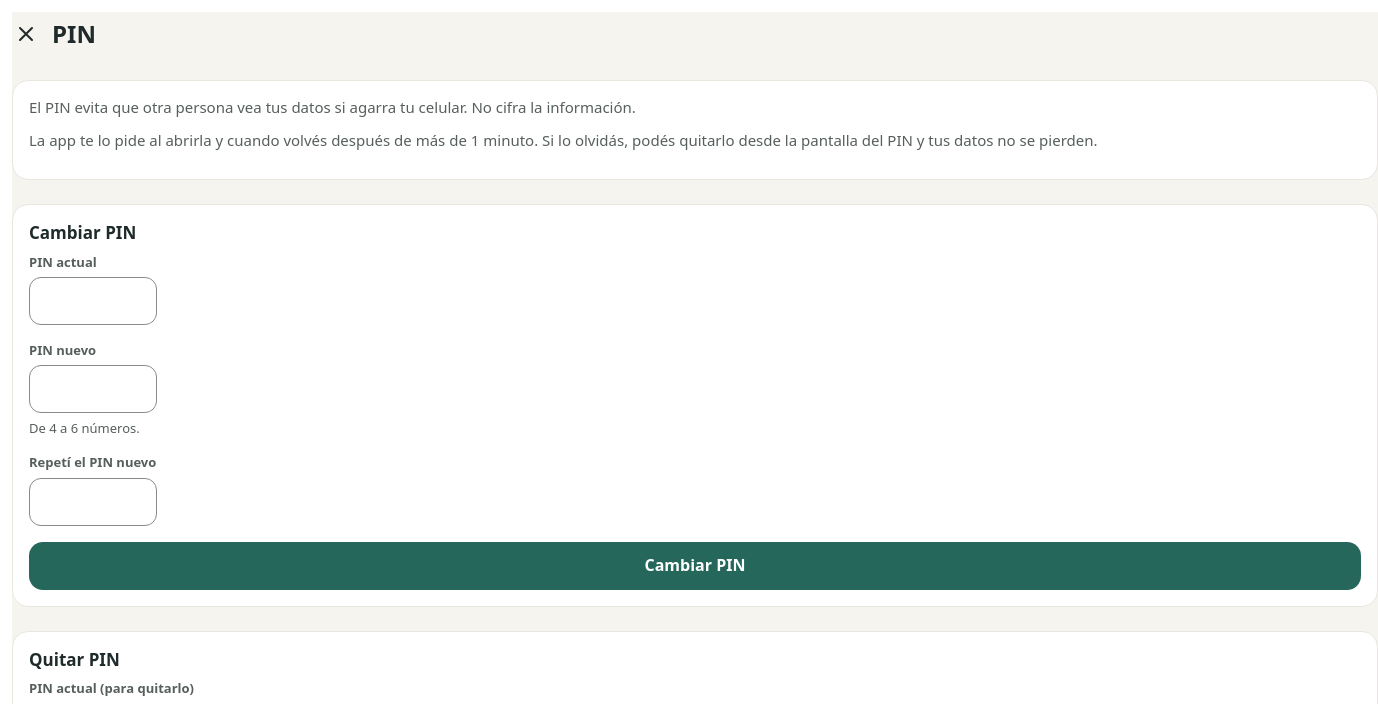
Test: con PIN › el PIN nuevo inválido o que no coincide se explica antes de tocar nada
In the password field labelled "PIN actual": (93, 301) [29,277,157,325], type "1234"
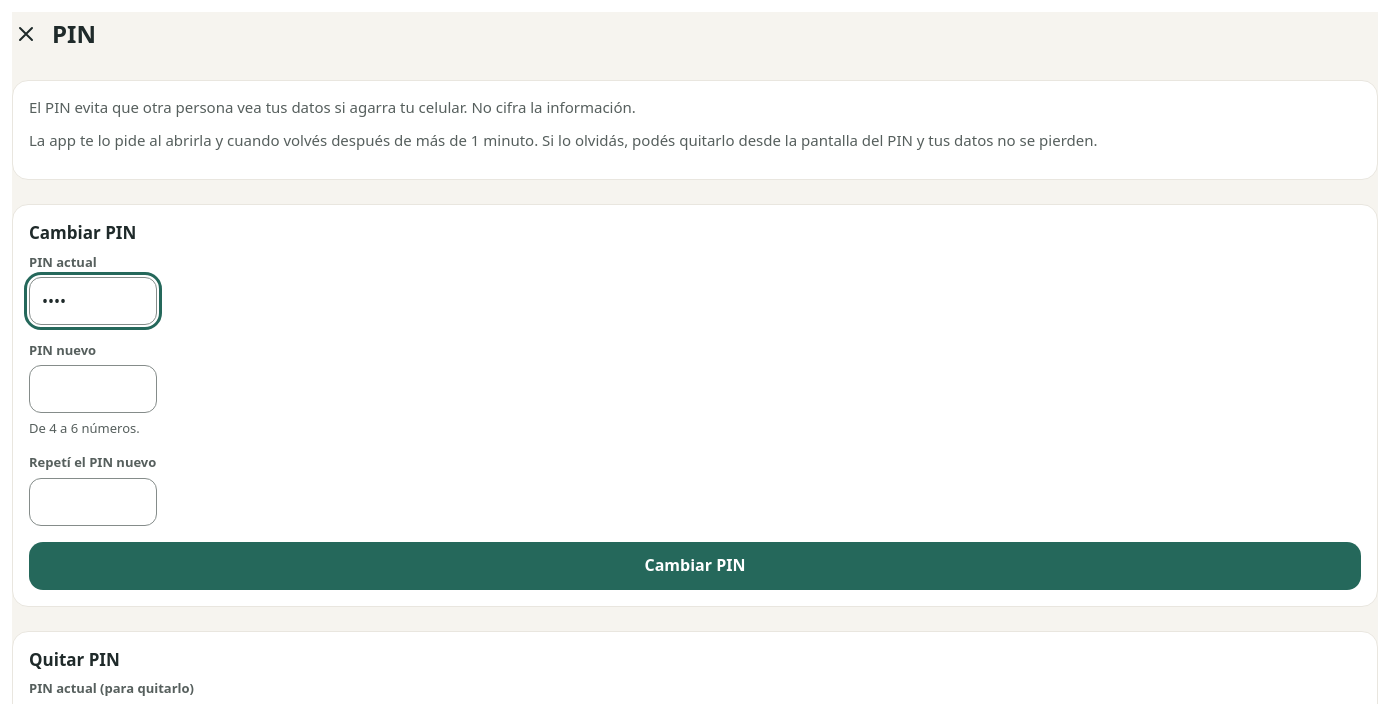
In the password field labelled "PIN nuevo": (93, 389) [29,365,157,413], type "98"
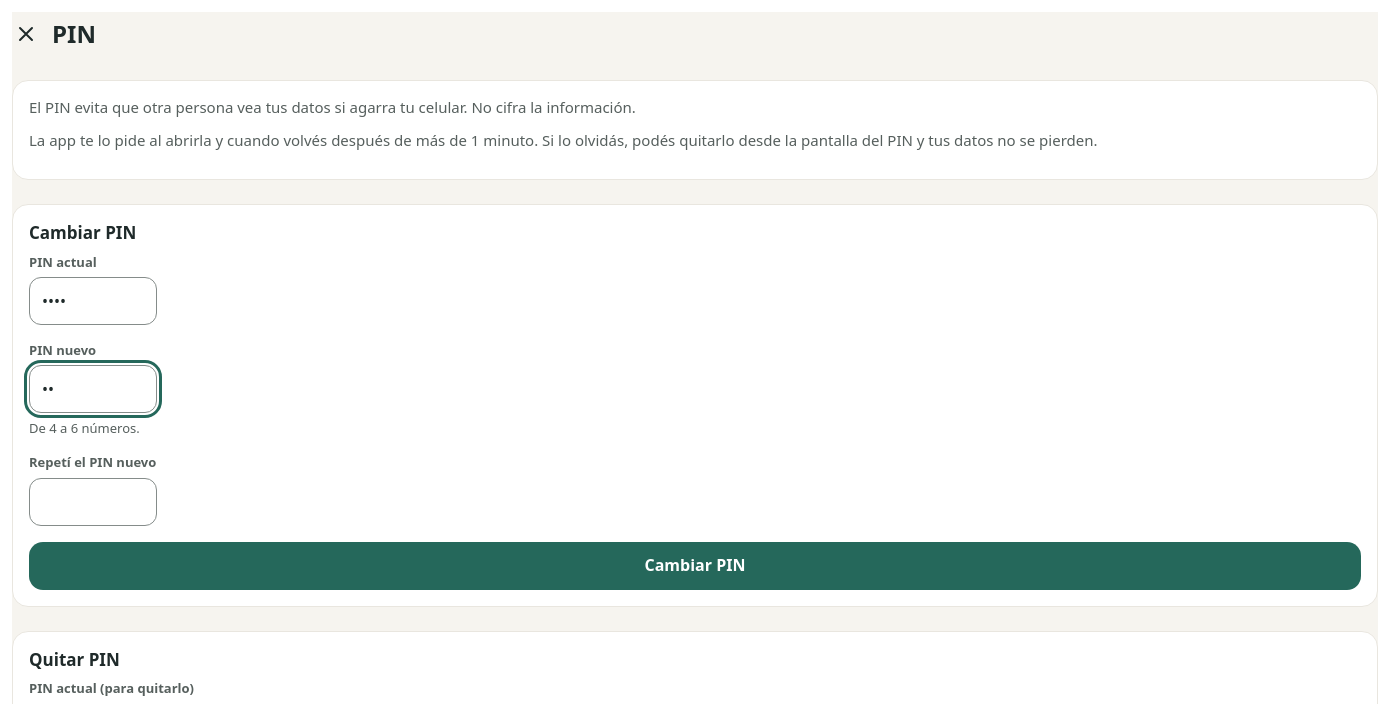
In the password field labelled "Repetí el PIN nuevo": (93, 502) [29,478,157,526], type "98"
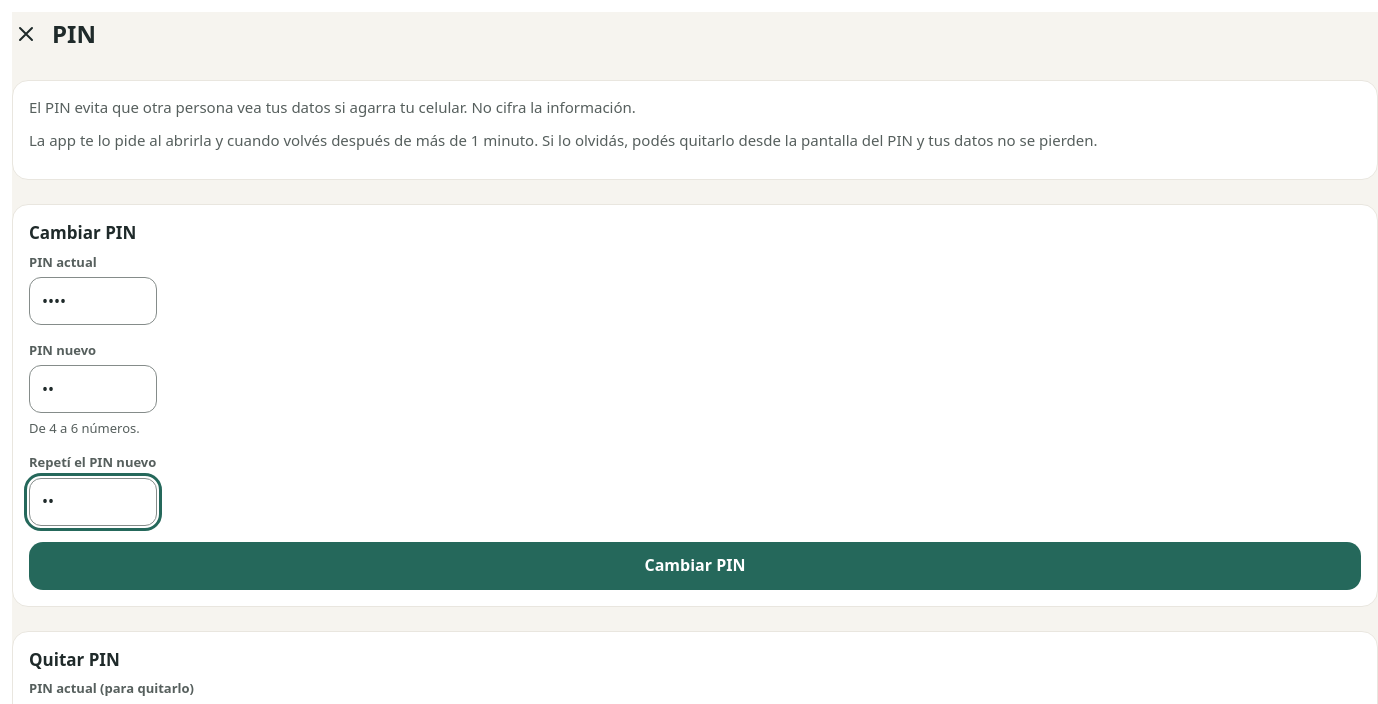
Click the button "Cambiar PIN": (695, 566) [29,542,1361,590]
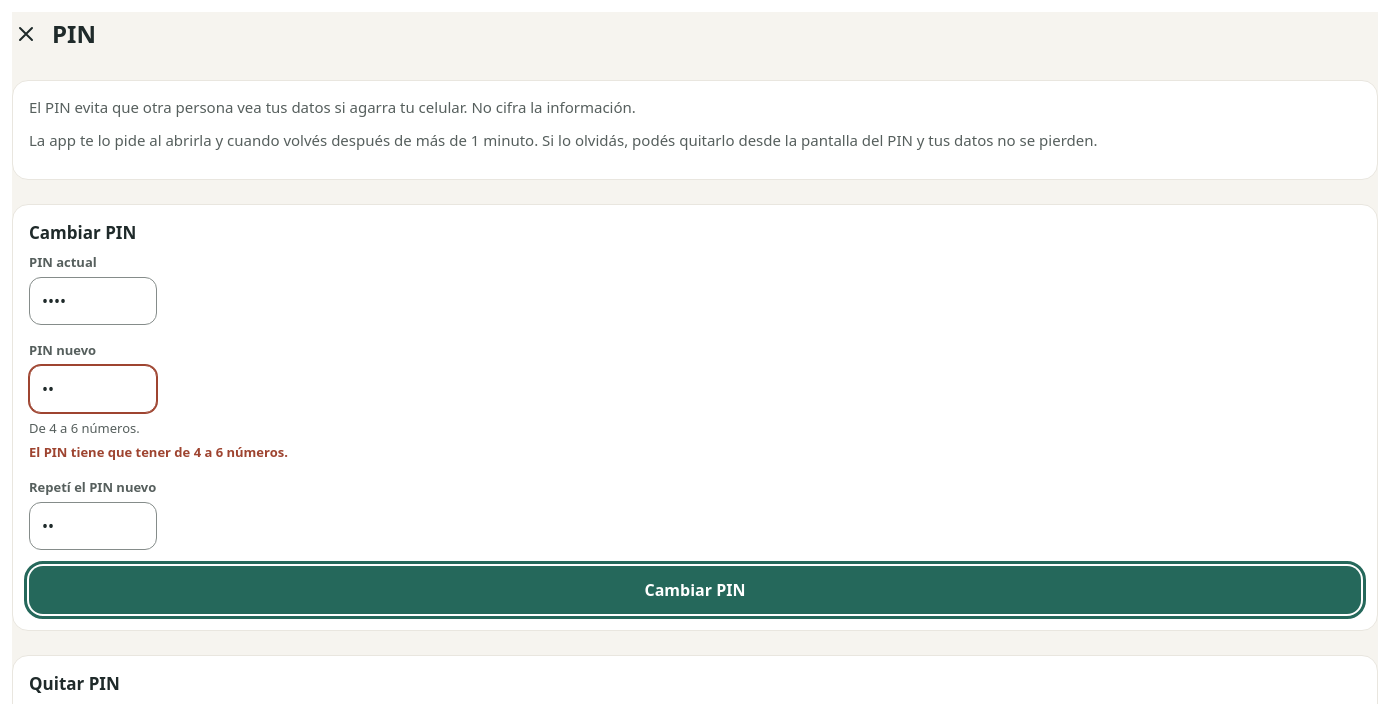
Now the message reads "El PIN tiene que tener de 4 a 6 números.", box [29,443,288,461]
